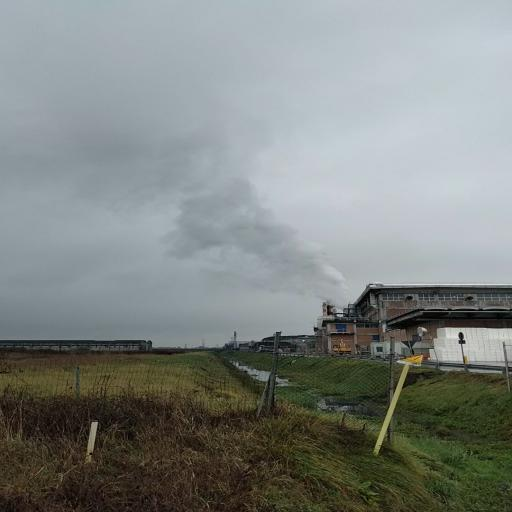leakage: (29, 114, 368, 328)
